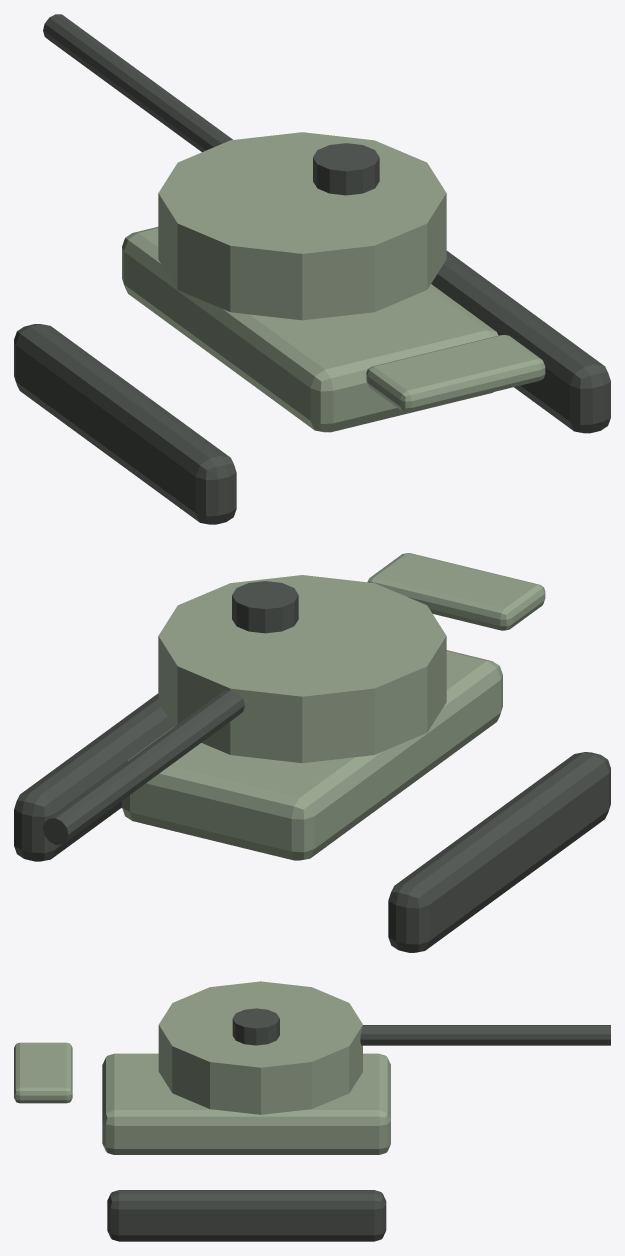
The model's file is eastasia_type10.glb.
The picture shows the model from 3 angles, top to bottom: view 1: azimuth 30°, elevation 25°; view 2: azimuth 150°, elevation 25°; view 3: azimuth 270°, elevation 25°; orthographic projection. The views are drawn at different scales.
Visible parts, largest first — view 1: turret, hull, left_track, right_track, rear_deck, gun, cupola; view 2: turret, hull, left_track, right_track, rear_deck, gun, cupola; view 3: turret, hull, right_track, gun, rear_deck, cupola.
Part boxes in pixels (left/top/right/bottom): turret: left=158, top=132, right=446, bottom=320; hull: left=122, top=227, right=498, bottom=432; left_track: left=14, top=324, right=236, bottom=524; right_track: left=431, top=251, right=610, bottom=433; rear_deck: left=366, top=335, right=545, bottom=412; gun: left=43, top=14, right=232, bottom=151; cupola: left=313, top=143, right=379, bottom=195; turret: left=158, top=575, right=446, bottom=763; hull: left=122, top=650, right=502, bottom=860; left_track: left=388, top=752, right=610, bottom=952; right_track: left=14, top=693, right=173, bottom=861; rear_deck: left=367, top=553, right=545, bottom=630; gun: left=43, top=690, right=244, bottom=844; cupola: left=232, top=581, right=298, bottom=633; turret: left=158, top=981, right=362, bottom=1114; hull: left=102, top=1053, right=390, bottom=1154; right_track: left=107, top=1190, right=386, bottom=1241; gun: left=360, top=1025, right=610, bottom=1045; rear_deck: left=14, top=1042, right=72, bottom=1103; cupola: left=232, top=1008, right=279, bottom=1045.
Size of the model in its own units: 3.44 by 1.91 by 6.06.
